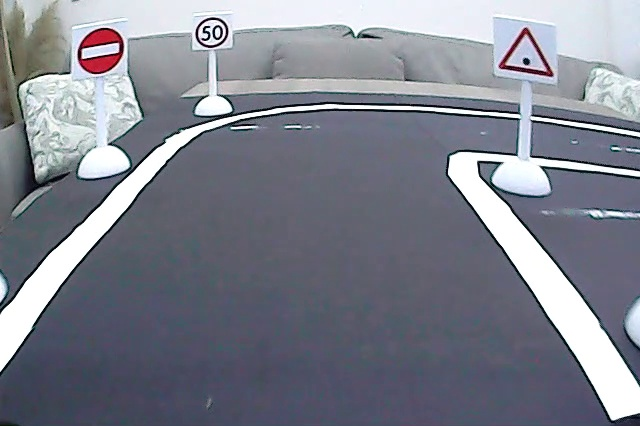do not enter: (74, 22, 126, 76)
green light: (495, 22, 557, 80)
speed limit 50: (193, 15, 231, 50)
